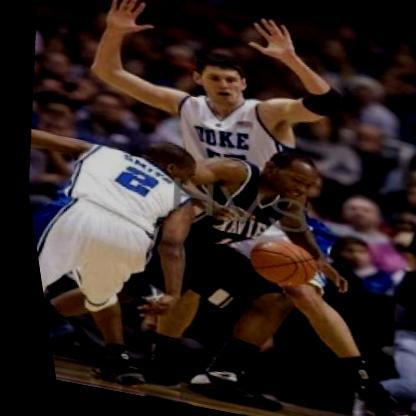basketball: (232, 225, 320, 297)
